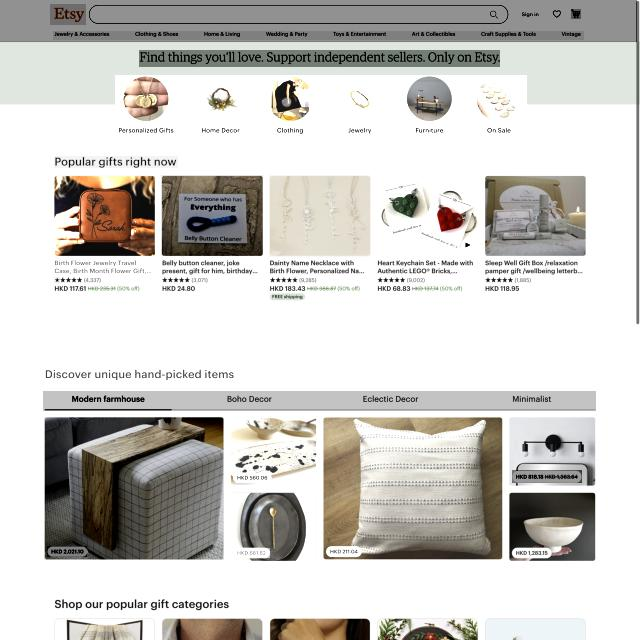CheckBox: (521, 11, 540, 18)
CheckedTextView: (88, 4, 510, 25)
Input field: (53, 258, 155, 277)
RadioButton: (512, 470, 582, 483), (47, 546, 87, 557), (233, 548, 270, 558)
bag: (0, 0, 637, 42)
breadcrumbs: (44, 368, 236, 382), (54, 156, 178, 168)
carousel: (489, 8, 500, 21), (571, 9, 581, 19), (552, 9, 562, 18), (54, 277, 60, 283)
copy: (44, 417, 224, 560), (324, 416, 502, 560), (269, 175, 370, 257), (161, 175, 263, 256), (377, 175, 478, 256), (54, 176, 154, 256), (230, 417, 317, 486), (230, 493, 316, 561)
date picker: (50, 4, 86, 25)
decoration: (115, 75, 527, 137), (53, 31, 584, 40)
footer: (97, 9, 159, 19)
icon: (43, 391, 596, 411)
image: (139, 50, 500, 67)
